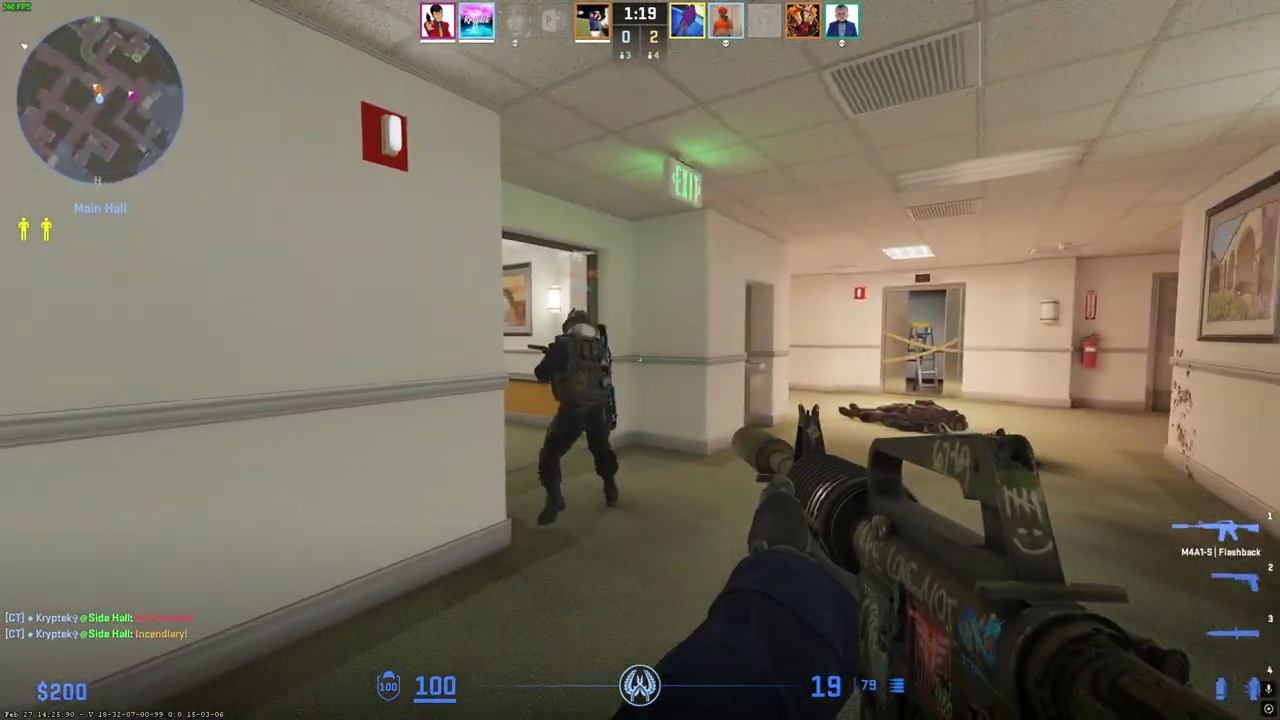CT: (534, 309, 621, 522)
